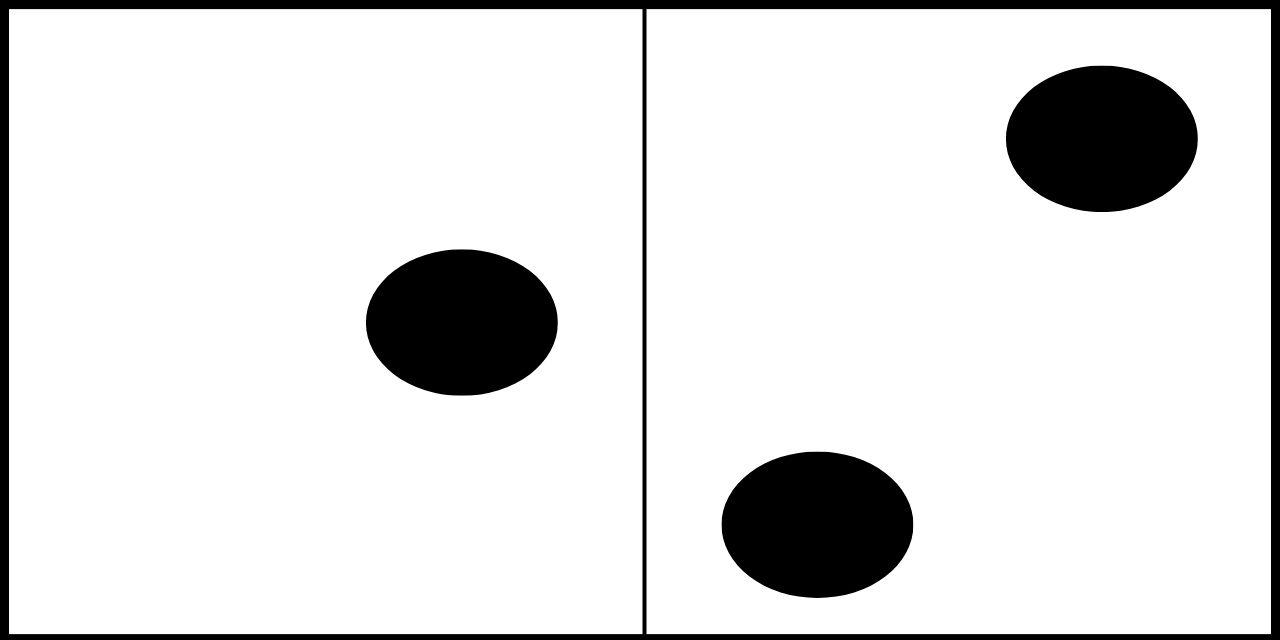dot_5: (85, 62, 560, 597)
two_cell_non_alphabet_sinta: (722, 64, 1198, 600)
